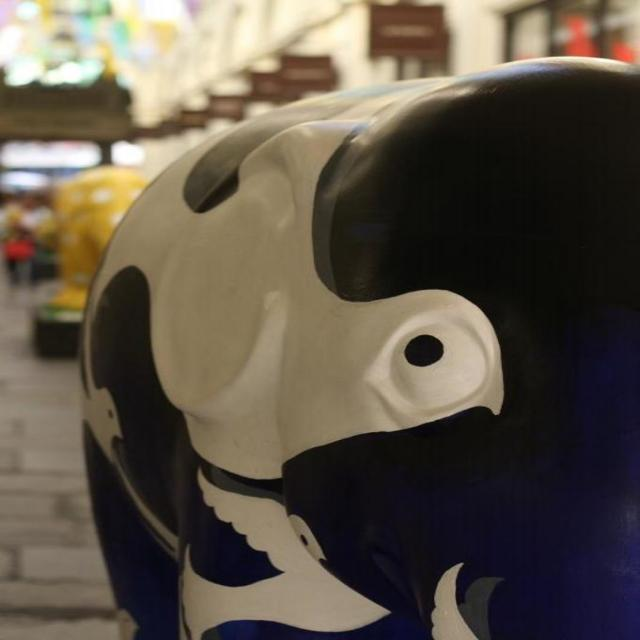elephant: (76, 50, 564, 640)
